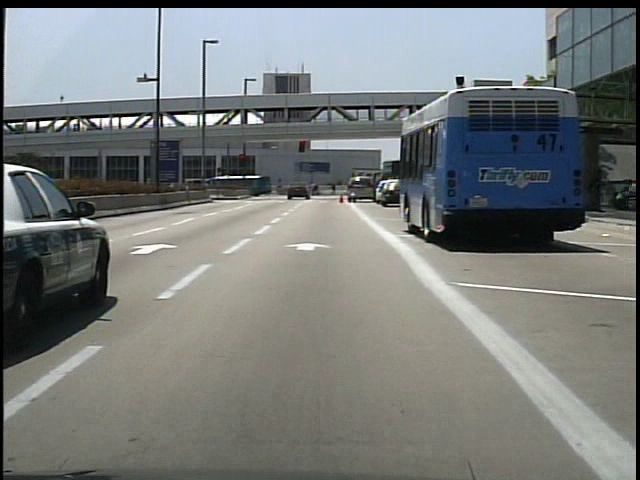person: (611, 180, 635, 211), (312, 182, 322, 197), (330, 182, 339, 197)
